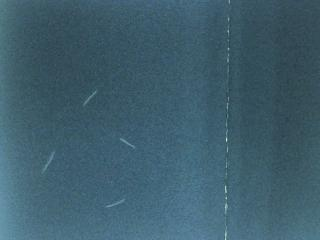crack: (219, 0, 236, 240)
scratch: (38, 147, 58, 177), (79, 86, 99, 110), (101, 195, 129, 212), (116, 135, 139, 153)
